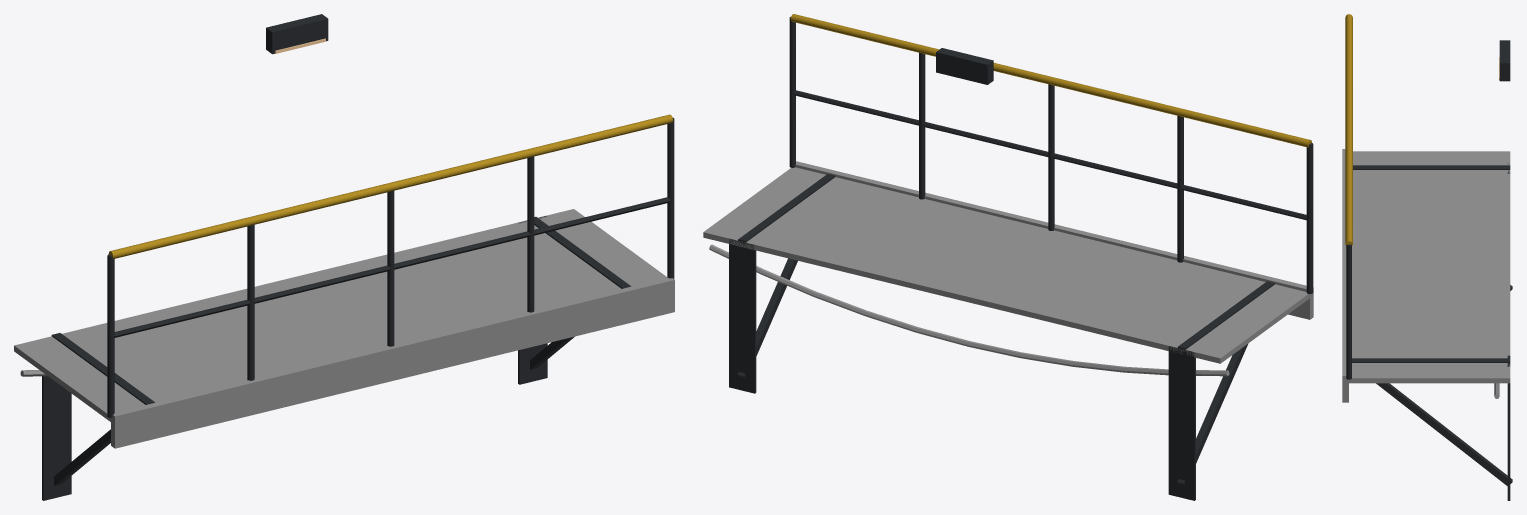
File: Catwalk_Wall_4m.fbx
The picture shows the model from 3 angles, left to right: view 1: azimuth 30°, elevation 25°; view 2: azimuth 150°, elevation 25°; view 3: azimuth 270°, elevation 25°; orthographic projection. The views are drawn at different scales.
Parts seen in each view (by area): view 1: Catwalk_Wall_4m_LOD0; view 2: Catwalk_Wall_4m_LOD0; view 3: Catwalk_Wall_4m_LOD0.
Boxes of the visible parts, <box> form: Catwalk_Wall_4m_LOD0: <box>14,14,674,500</box>; Catwalk_Wall_4m_LOD0: <box>703,14,1313,500</box>; Catwalk_Wall_4m_LOD0: <box>1342,14,1512,500</box>.
Size of what is drawn, in the model's own units: 4.04 by 2.85 by 1.27.
